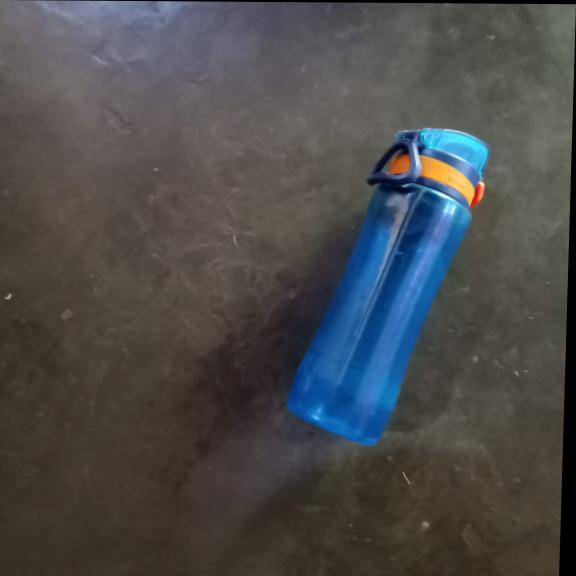Plastik: (284, 126, 498, 447)
